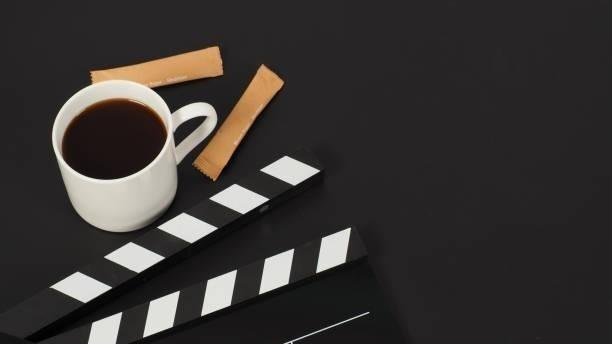cup-handle: (50, 78, 218, 234)
